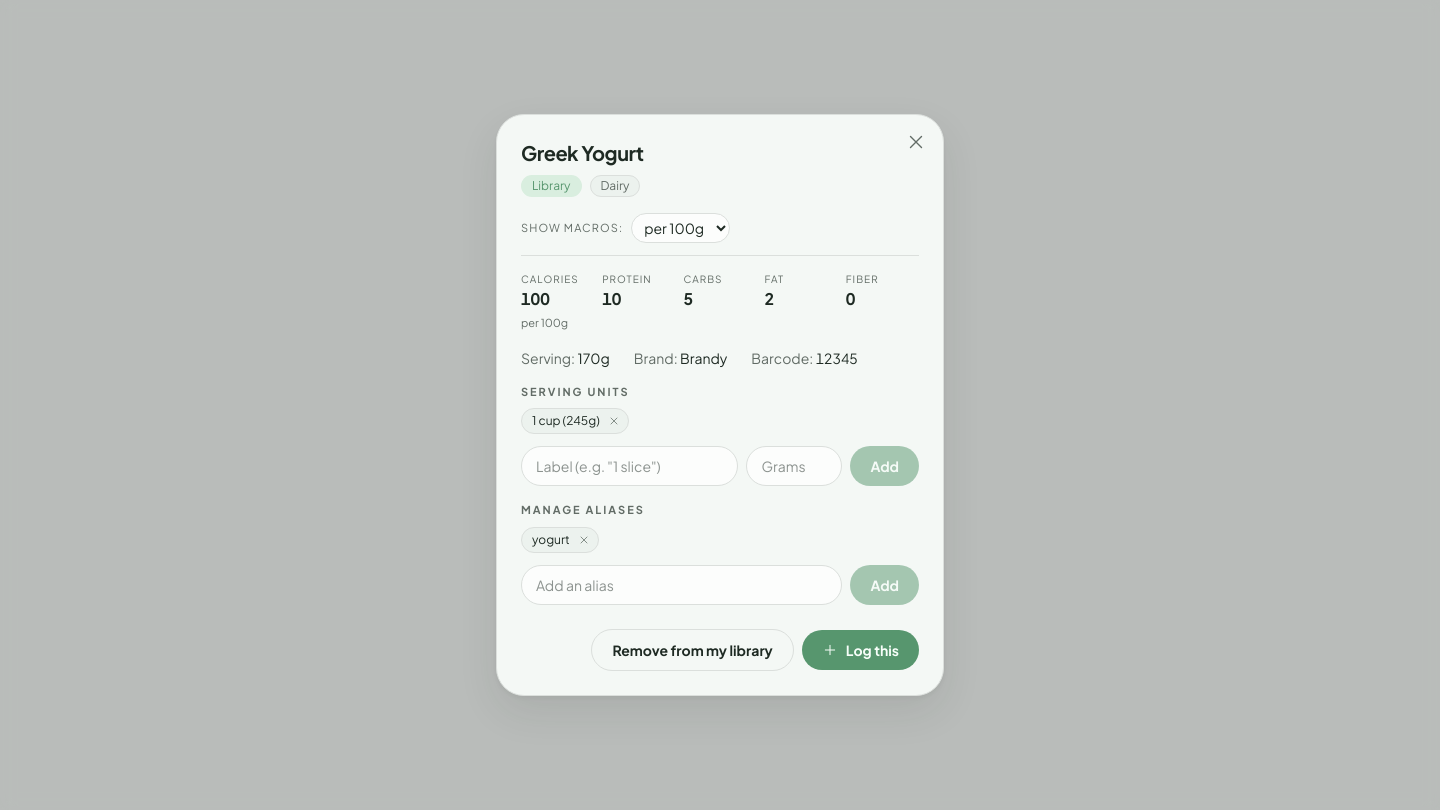
FoodDetailModal › cancels the remove-from-library confirmation
Click the button "Remove from my library" at (693, 650), box [592,629,794,671]
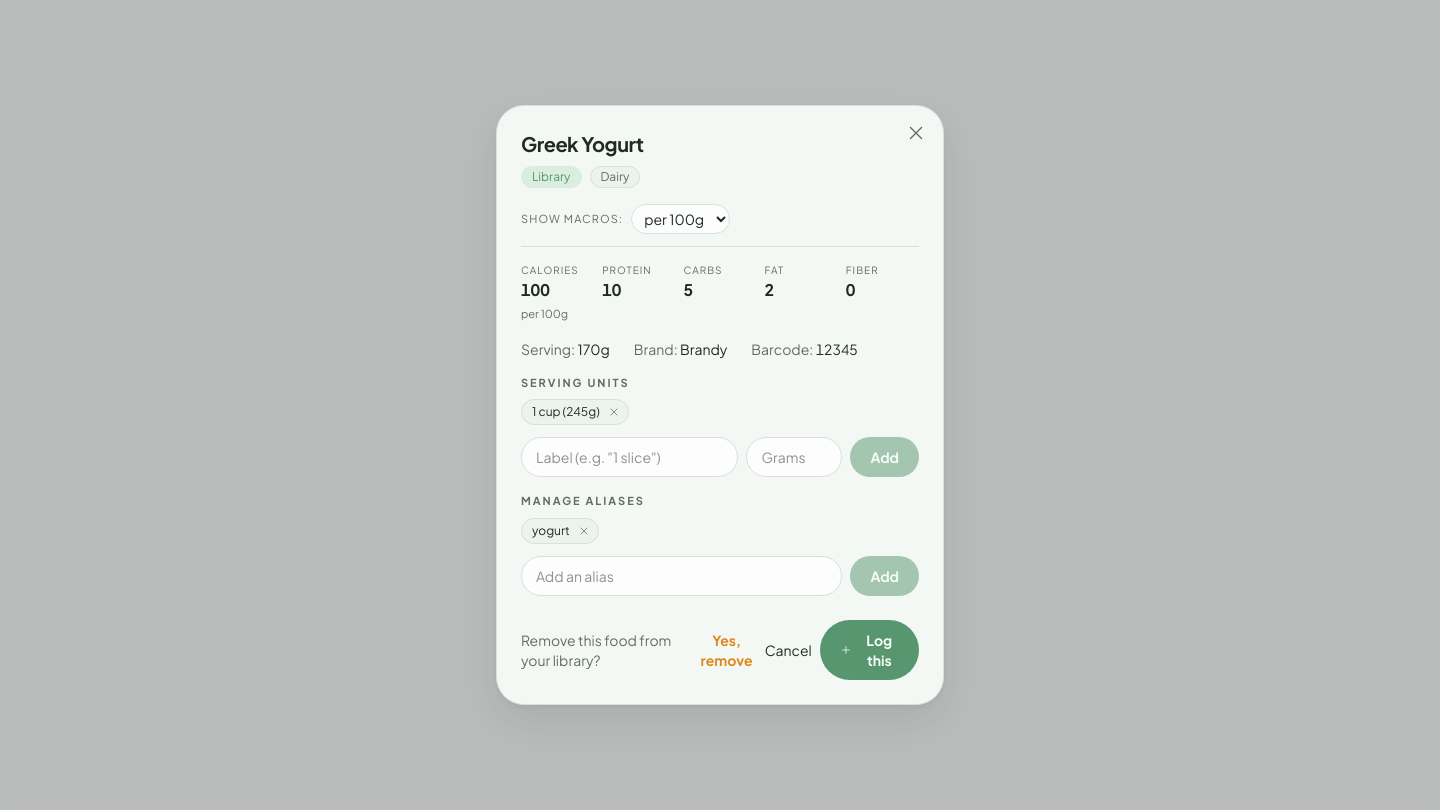
Click the button "Cancel" at (788, 650), box [765,640,812,660]
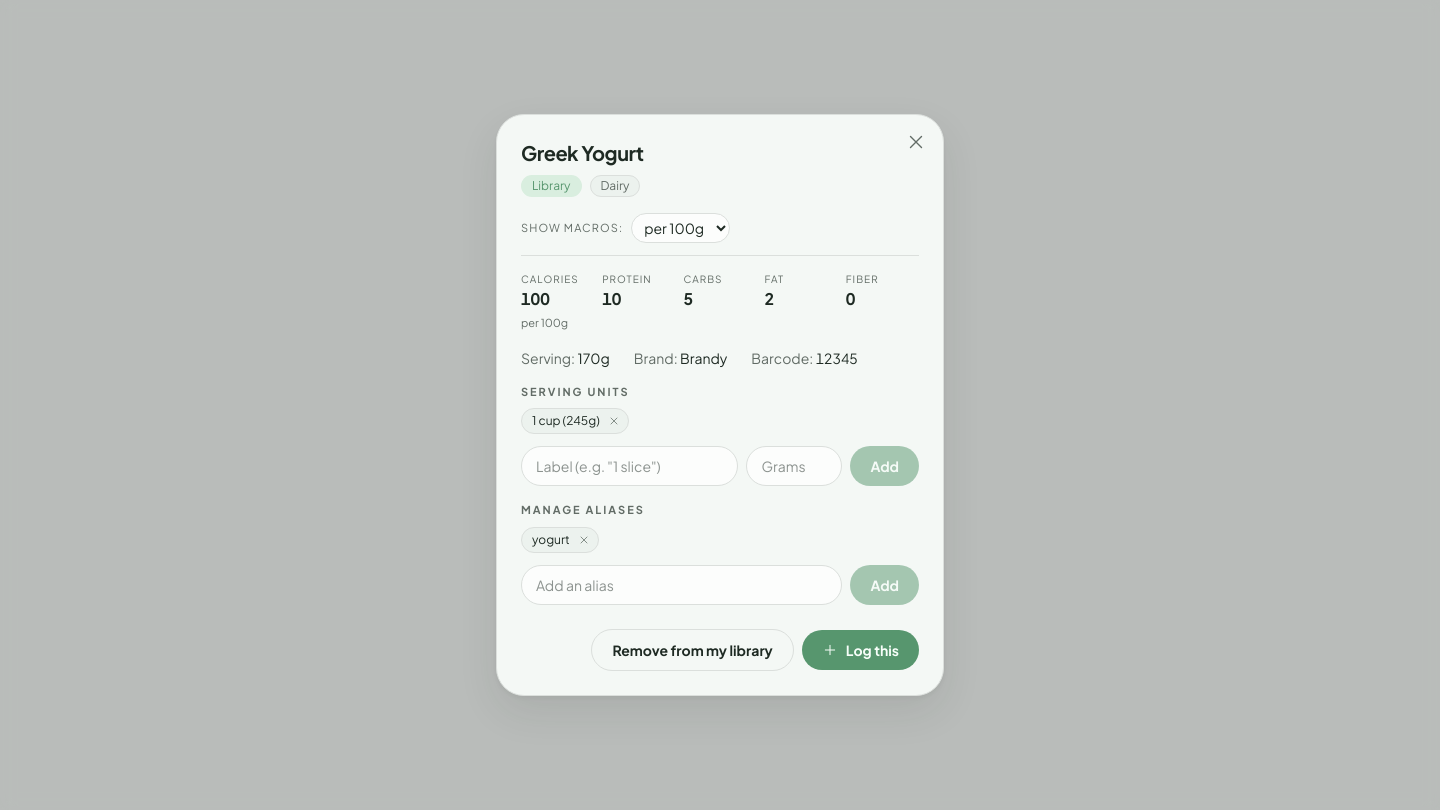
Now the text "Remove this food from your library?" is gone
